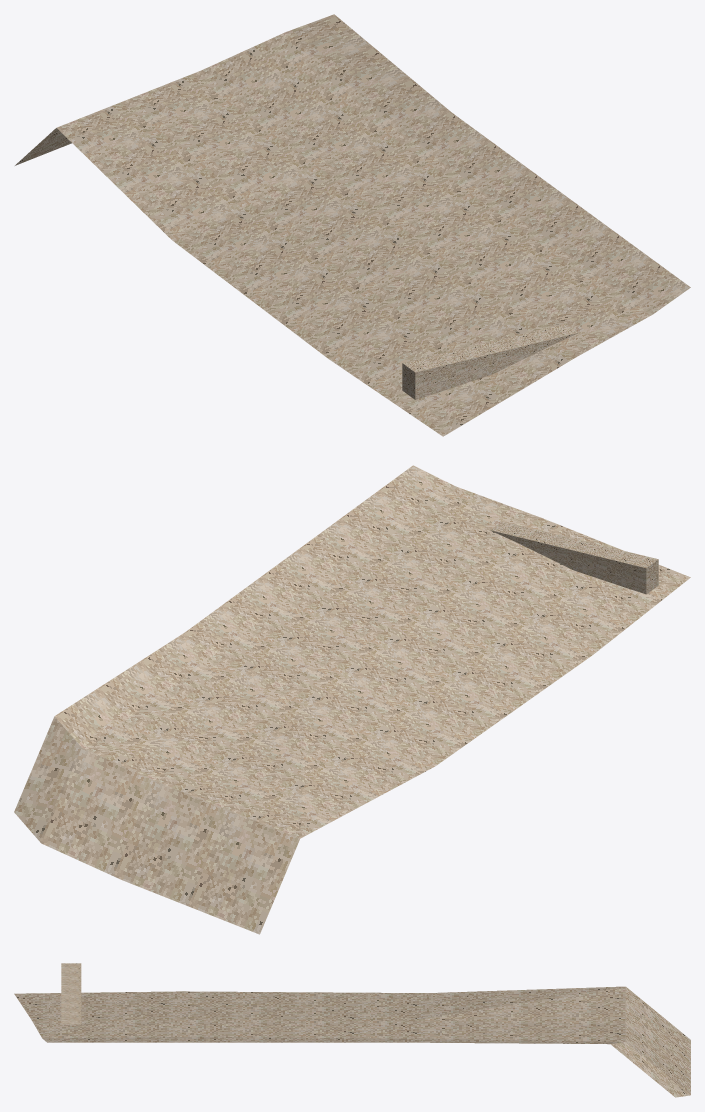
The model's file is lodch1spt_las2.obj.
3 views of the same model, one above another, from view 1: azimuth 30°, elevation 25°; view 2: azimuth 150°, elevation 25°; view 3: azimuth 270°, elevation 25° (orthographic). The views are drawn at different scales.
Visible parts, largest first — view 1: LODch1spt_las2; view 2: LODch1spt_las2; view 3: LODch1spt_las2.
Boxes of the visible parts, <box> form: LODch1spt_las2: <box>15,14,690,436</box>; LODch1spt_las2: <box>14,465,690,934</box>; LODch1spt_las2: <box>14,963,690,1097</box>.
Size of the model in its own units: 80.35 by 33.69 by 215.
1 material, 1 textured.
